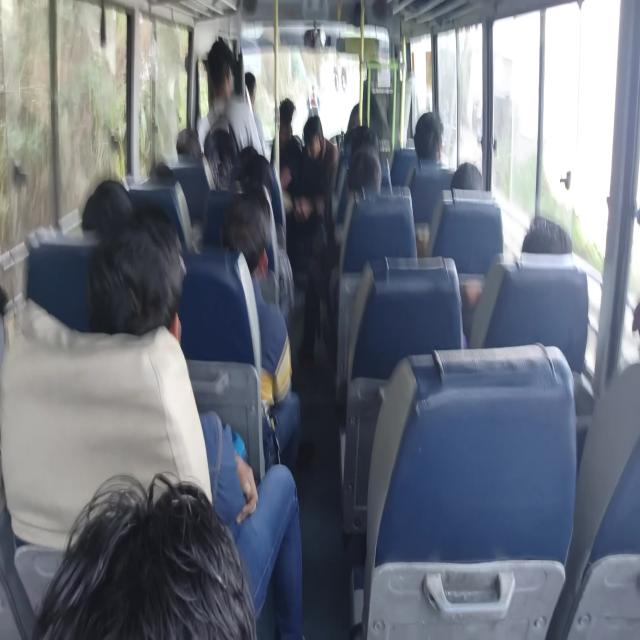person: (68, 432, 236, 640), (104, 210, 196, 345), (508, 202, 574, 288), (218, 189, 264, 272), (404, 119, 459, 172), (90, 171, 129, 226), (339, 144, 377, 197), (620, 281, 640, 372), (208, 45, 233, 94), (232, 160, 264, 198), (240, 63, 260, 122), (171, 125, 199, 166), (344, 122, 370, 165), (454, 157, 476, 203), (276, 104, 302, 140), (302, 117, 320, 162), (146, 160, 176, 186), (229, 141, 256, 169)
